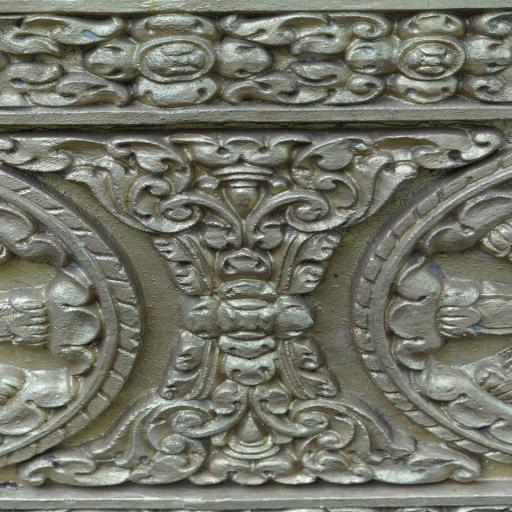hoa: (331, 8, 512, 108), (92, 12, 266, 110), (173, 275, 318, 359), (275, 333, 353, 405), (155, 330, 226, 400)
la: (0, 129, 512, 234), (12, 400, 480, 489), (375, 251, 512, 373), (0, 258, 129, 380), (219, 3, 397, 59), (216, 54, 382, 108), (0, 55, 134, 113), (0, 9, 132, 59), (142, 238, 214, 302), (292, 231, 340, 303)
